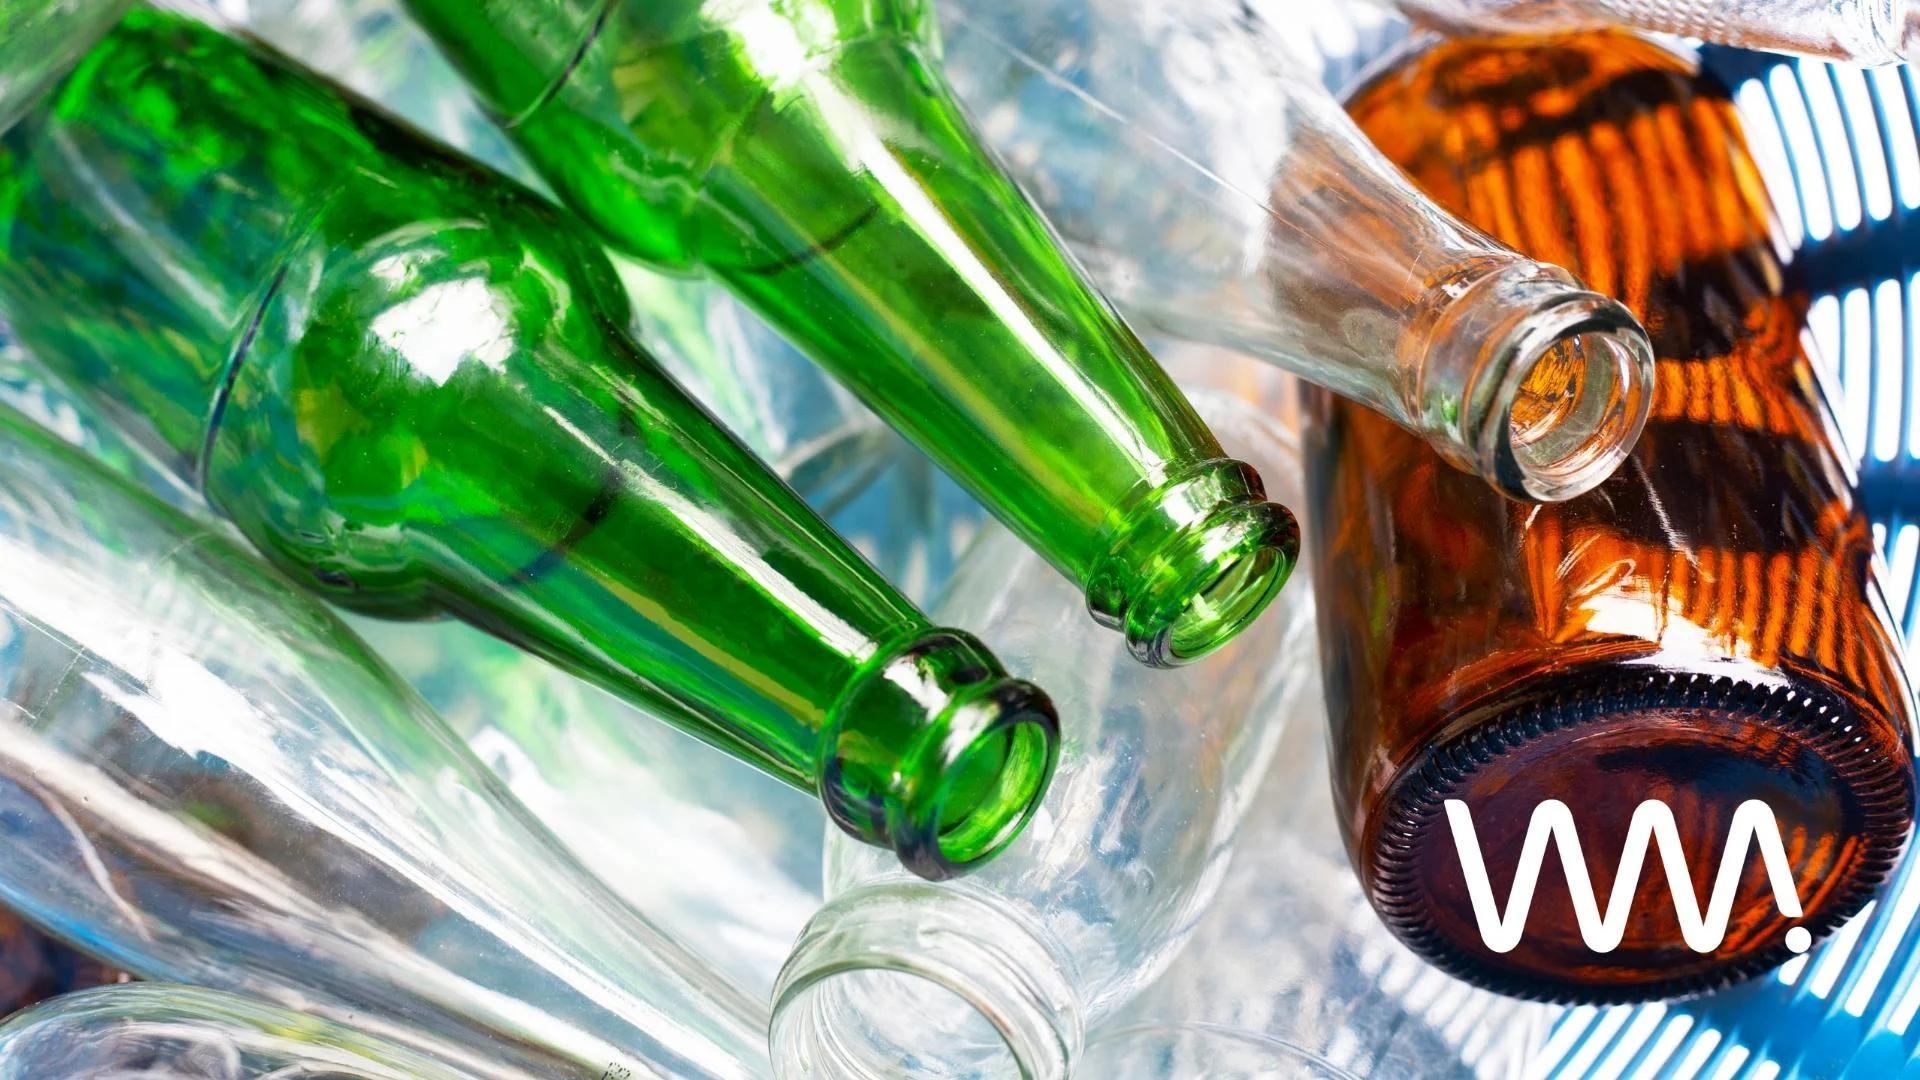glass: (0, 0, 1291, 860), (1292, 0, 1908, 1002), (0, 411, 766, 1080), (769, 500, 1382, 1080), (945, 0, 1651, 496)
